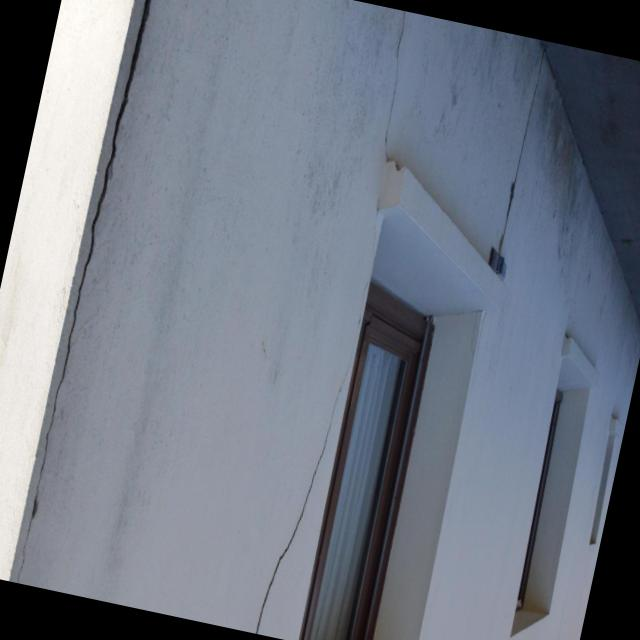crack: (15, 0, 149, 580), (255, 367, 348, 633), (496, 52, 544, 251), (382, 15, 406, 160)
